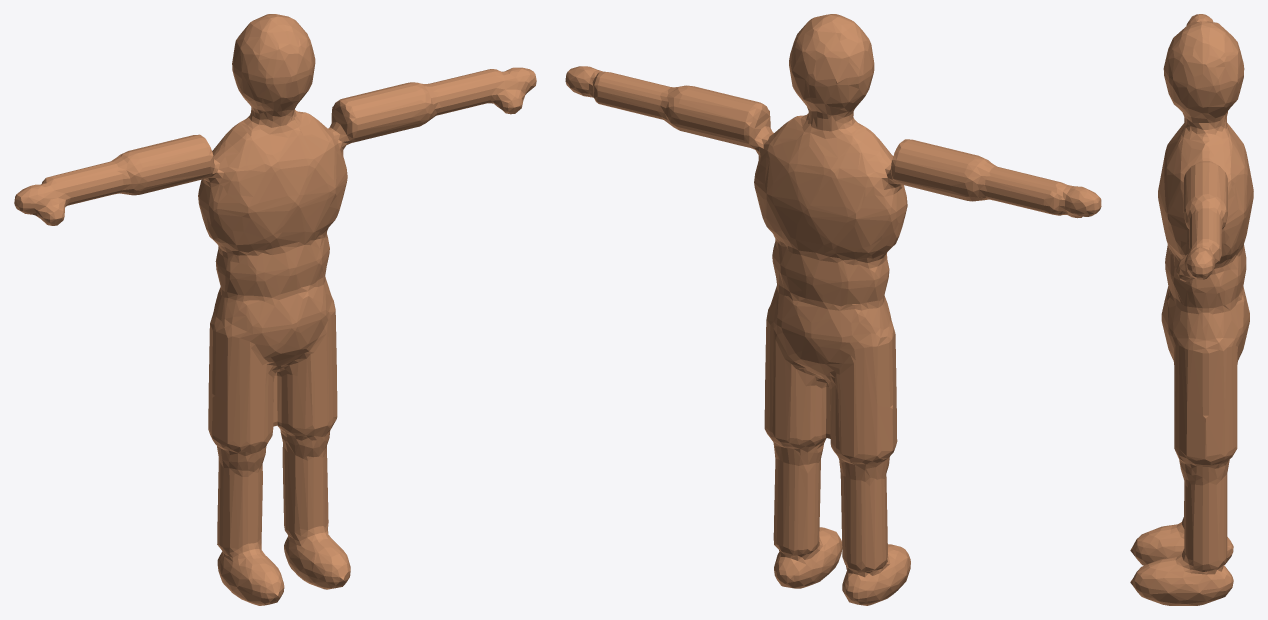
The model's file is BaseMale_TPose.fbx.
3 views of the same model, side by side, from view 1: azimuth 30°, elevation 25°; view 2: azimuth 150°, elevation 25°; view 3: azimuth 270°, elevation 25° (orthographic). The views are drawn at different scales.
Parts seen in each view (by area): view 1: BaseMale_TPose_Body; view 2: BaseMale_TPose_Body; view 3: BaseMale_TPose_Body.
Boxes of the visible parts, bbox=[...] form: BaseMale_TPose_Body: bbox=[14, 14, 536, 605]; BaseMale_TPose_Body: bbox=[565, 14, 1101, 605]; BaseMale_TPose_Body: bbox=[1130, 14, 1253, 605].
Size of the model in its own units: 1.68 by 1.75 by 0.3475.
